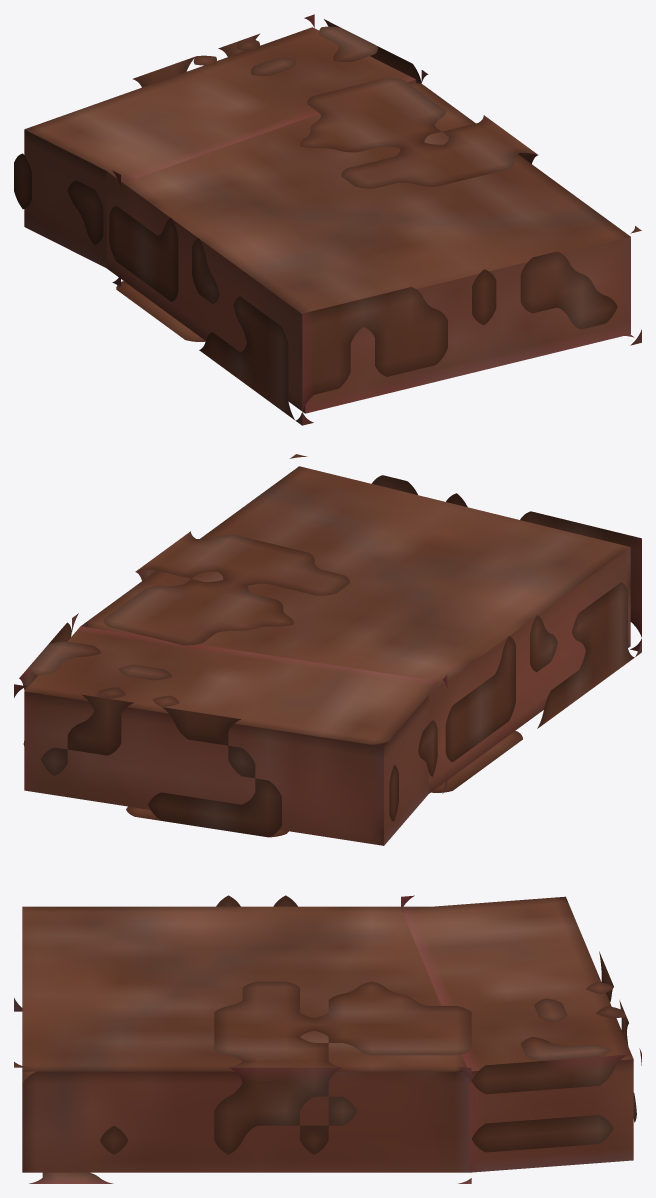
The model's file is piece_cooked_meat.obj.
The picture shows the model from 3 angles, top to bottom: view 1: azimuth 30°, elevation 25°; view 2: azimuth 150°, elevation 25°; view 3: azimuth 270°, elevation 25°; orthographic projection. The views are drawn at different scales.
Visible parts, largest first — view 1: cube; view 2: cube; view 3: cube.
Boxes of the visible parts, x1,y1,x2,y2 form: cube: [14, 14, 641, 425]; cube: [14, 454, 641, 845]; cube: [14, 895, 641, 1183].
Size of the model in its own units: 0.483 by 0.1453 by 0.7033.
